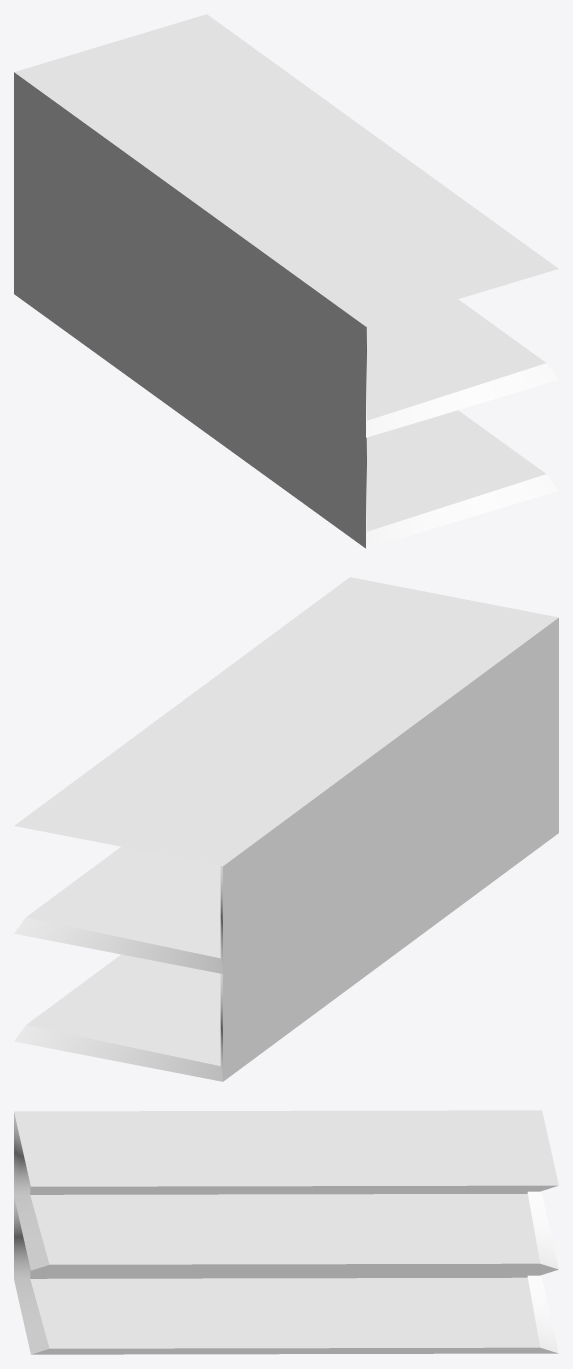
The model's file is Librero.obj.
3 renders of one model, top to bottom at view 1: azimuth 30°, elevation 25°; view 2: azimuth 150°, elevation 25°; view 3: azimuth 270°, elevation 25°, orthographic. The views are drawn at different scales.
Visible parts, largest first — view 1: Cuarto:Librero:estante1:Mesh Cuarto:Librero:pasted__group Cuarto; view 2: Cuarto:Librero:estante1:Mesh Cuarto:Librero:pasted__group Cuarto; view 3: Cuarto:Librero:estante1:Mesh Cuarto:Librero:pasted__group Cuarto.
Boxes of the visible parts, x1,y1,x2,y2 form: Cuarto:Librero:estante1:Mesh Cuarto:Librero:pasted__group Cuarto: (14, 14, 558, 548); Cuarto:Librero:estante1:Mesh Cuarto:Librero:pasted__group Cuarto: (14, 577, 558, 1081); Cuarto:Librero:estante1:Mesh Cuarto:Librero:pasted__group Cuarto: (14, 1110, 558, 1354).
Size of the model in its own units: 1.26 by 1.29 by 3.78.
1 material, 1 textured.
